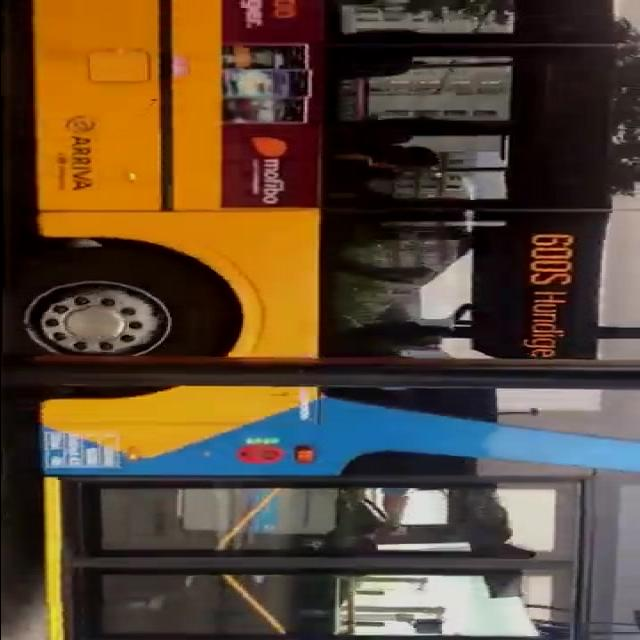bus: (13, 1, 640, 640)
